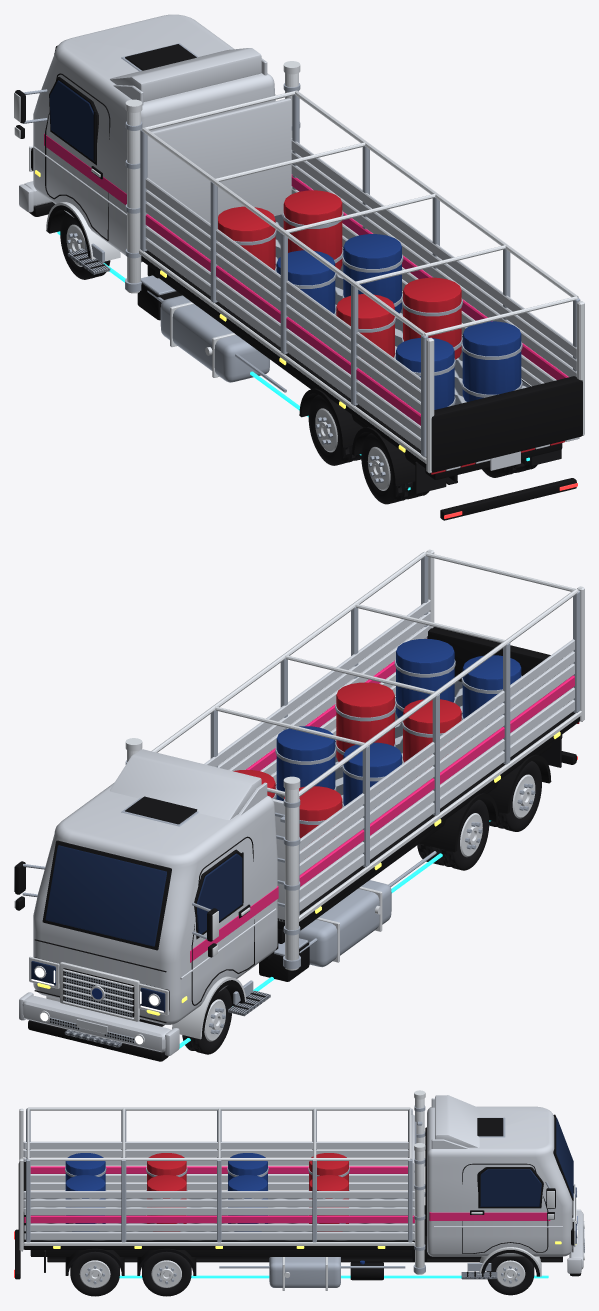
Rendered from dekotora_truck_flat.glb.
The picture shows the model from 3 angles, top to bottom: view 1: azimuth 30°, elevation 25°; view 2: azimuth 150°, elevation 25°; view 3: azimuth 270°, elevation 25°; orthographic projection. The views are drawn at different scales.
Visible parts, largest first — view 1: truck_paint_white, truck_plastic_black, truck_chrome, truck_steel, truck_paint_blue, truck_paint_red, truck_paint_pink, truck_glass, wheel_r_L_1.5_1.06, wheel_r_L_3.0_1.06, truck_diamond, wheel_f_L (+1 smaller); view 2: truck_paint_white, truck_chrome, truck_plastic_black, truck_steel, truck_glass, truck_paint_blue, truck_paint_red, truck_paint_pink, wheel_r_L_3.0_1.06, wheel_r_L_1.5_1.06, truck_mesh_perf, truck_diamond (+1 smaller); view 3: truck_paint_white, truck_plastic_black, truck_chrome, truck_steel, truck_paint_pink, truck_paint_blue, truck_glass, truck_paint_red, truck_diamond, wheel_r_R_3.0_1.06, wheel_r_R_1.5_1.06, wheel_f_R (+1 smaller).
Part boxes in pixels (x1,y1,x2,y2): truck_paint_white: (19,14,579,470); truck_plastic_black: (15,44,582,520); truck_chrome: (14,61,584,473); truck_steel: (23,43,580,457); truck_paint_blue: (276,234,521,409); truck_paint_red: (218,190,564,474); truck_paint_pink: (44,133,568,425); truck_glass: (49,80,94,161); wheel_r_L_1.5_1.06: (361,433,412,504); wheel_r_L_3.0_1.06: (308,394,357,465); truck_diamond: (67,214,529,404); wheel_f_L: (60,213,110,279); truck_paint_white: (19,599,574,1055); truck_chrome: (14,549,584,1045); truck_plastic_black: (15,627,579,1061); truck_steel: (22,555,580,1004); truck_glass: (31,845,242,1012); truck_paint_blue: (92,639,521,999); truck_paint_red: (233,682,579,838); truck_paint_pink: (190,660,574,962); wheel_r_L_3.0_1.06: (437,799,489,870); wheel_r_L_1.5_1.06: (493,761,541,831); truck_mesh_perf: (64,971,132,1017); truck_diamond: (64,681,462,1047); truck_paint_white: (21,1095,584,1273); truck_plastic_black: (15,1114,581,1280); truck_chrome: (19,1090,584,1290); truck_steel: (26,1105,550,1287); truck_paint_pink: (24,1166,550,1223); truck_paint_blue: (65,1153,577,1264); truck_glass: (480,1117,576,1243); truck_paint_red: (147,1153,348,1231); truck_diamond: (30,1198,584,1279); wheel_r_R_3.0_1.06: (142,1251,191,1296); wheel_r_R_1.5_1.06: (70,1251,119,1296); wheel_f_R: (486,1256,534,1295).
Bounding box in the file's own units: 3.28 × 3.65 × 11.96.
Materials: 16 (3 with a texture image).
